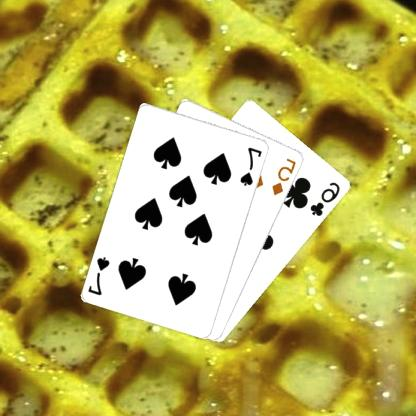5D: (272, 155, 300, 197)
6C: (310, 179, 344, 218)
7S: (239, 144, 266, 187), (88, 254, 113, 296)
